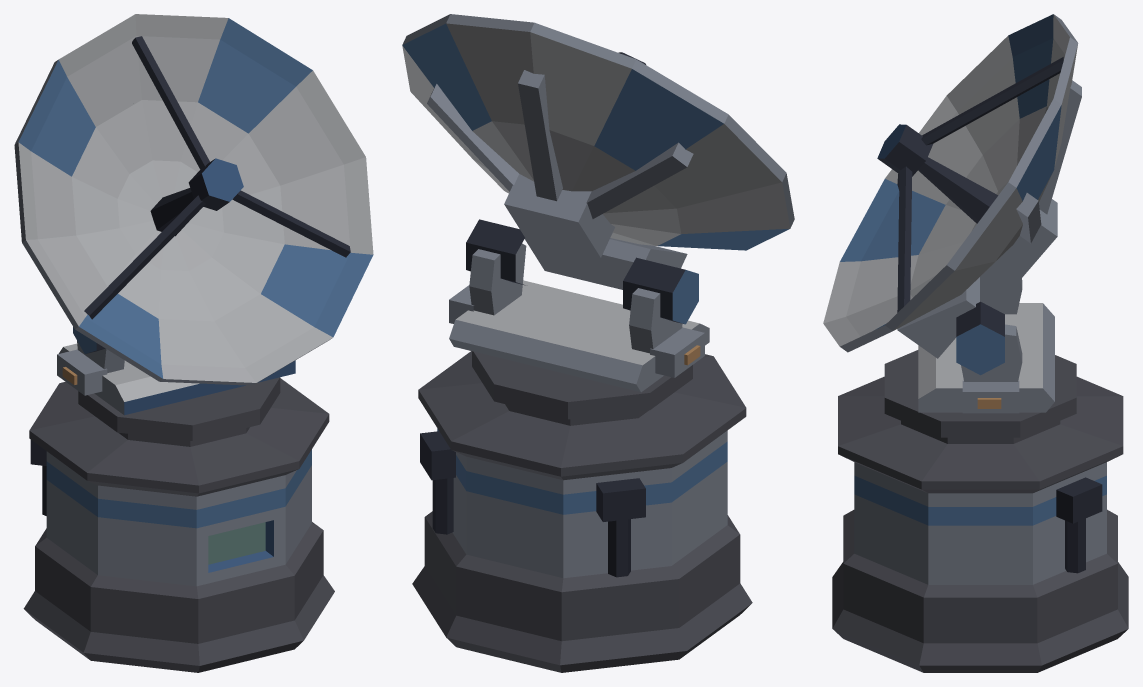
Rendered from sensor-dish-6b1108.glb.
3 renders of one model, left to right at view 1: azimuth 30°, elevation 25°; view 2: azimuth 150°, elevation 25°; view 3: azimuth 270°, elevation 25°, orthographic. The views are drawn at different scales.
Parts seen in each view (by area): view 1: dish, dish-pedestal, yoke-head; view 2: dish-pedestal, dish, yoke-head; view 3: dish-pedestal, dish, yoke-head.
Part boxes in pixels (<box>): dish: <box>14,14,373,385</box>; dish-pedestal: <box>23,378,334,672</box>; yoke-head: <box>57,327,295,440</box>; dish-pedestal: <box>412,351,752,672</box>; dish: <box>402,14,794,289</box>; yoke-head: <box>449,219,709,419</box>; dish-pedestal: <box>832,376,1128,672</box>; dish: <box>823,14,1081,358</box>; yoke-head: <box>884,267,1076,437</box>.
Size of the model in its own units: 2.7 by 4.29 by 2.06.
